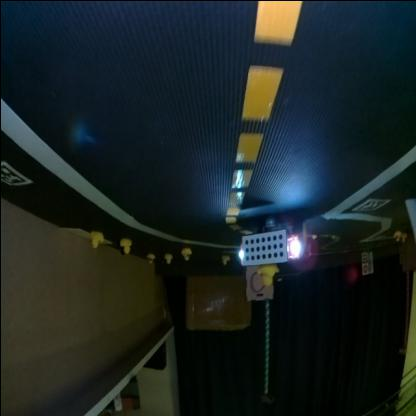Duckie: (256, 266, 276, 286), (89, 232, 101, 248), (118, 240, 130, 254), (180, 249, 190, 261), (146, 254, 154, 264), (220, 257, 228, 266), (162, 256, 170, 264)
Duckiebot: (238, 219, 309, 272)
